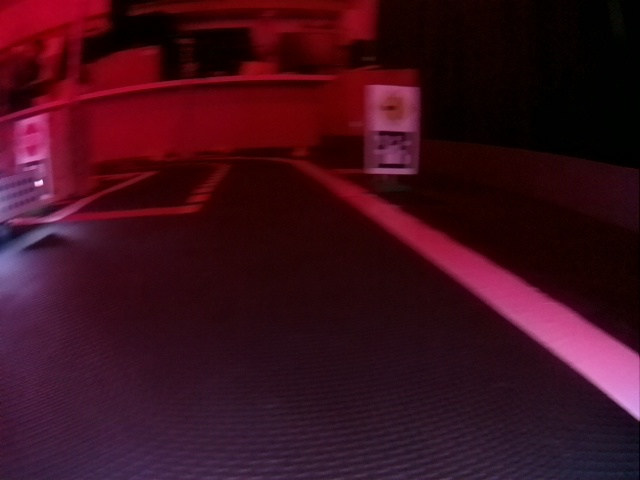Duckiebot: (2, 166, 50, 223)
Intersection sign: (374, 87, 419, 122)
QR code: (373, 132, 417, 170)
